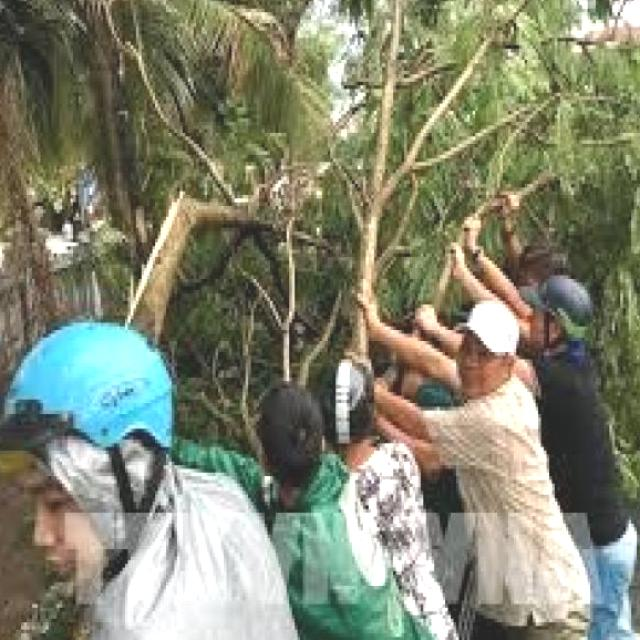fallen_object: (56, 28, 580, 613)
